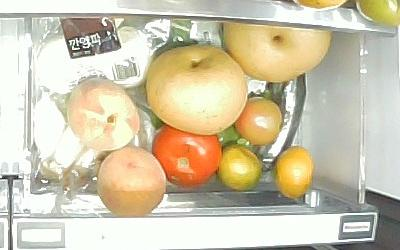peach: (65, 75, 141, 153), (95, 144, 168, 219)
pear: (144, 43, 249, 135), (222, 18, 332, 83)
tangerine: (273, 145, 315, 199), (217, 144, 262, 192)
tomato: (149, 122, 222, 189), (236, 94, 282, 146)
